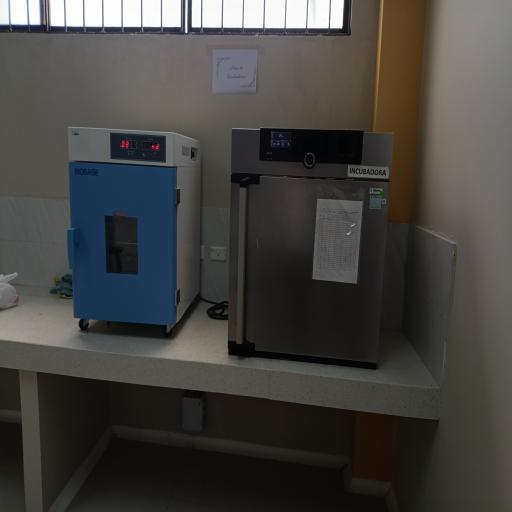Horno_Secado_Biobase: (60, 110, 208, 346)
Incubadora: (223, 116, 398, 380)
